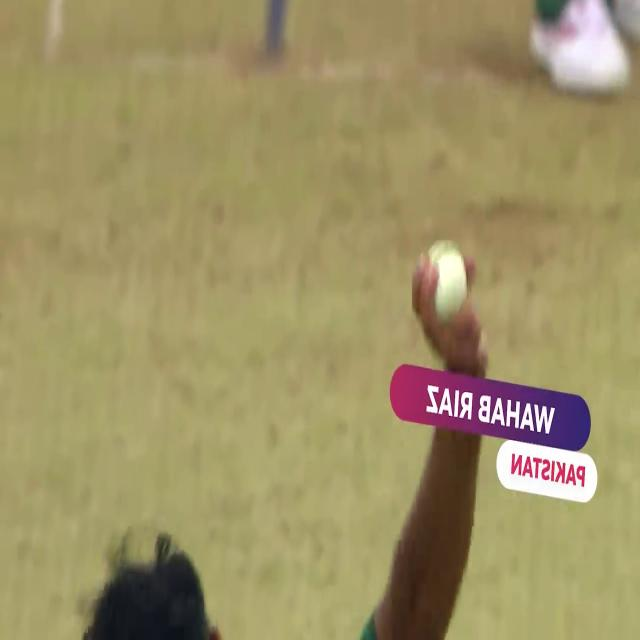ball: (398, 217, 492, 365)
